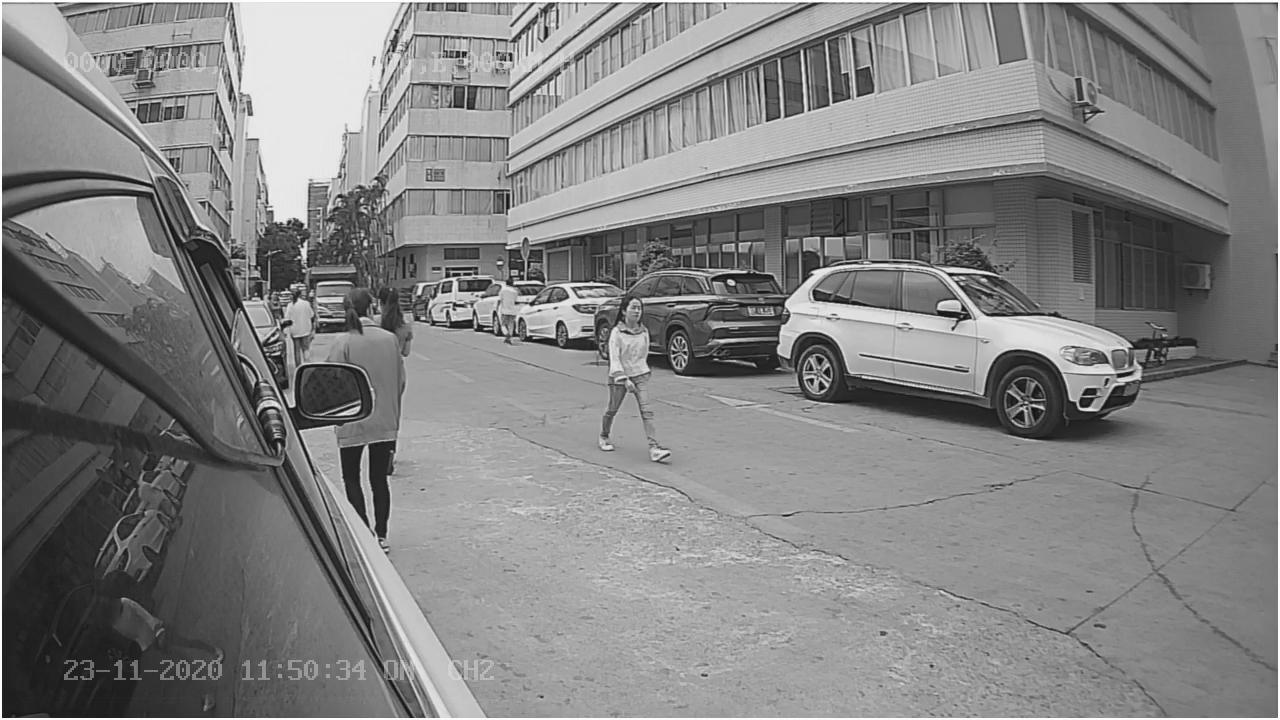person: (599, 294, 682, 465)
